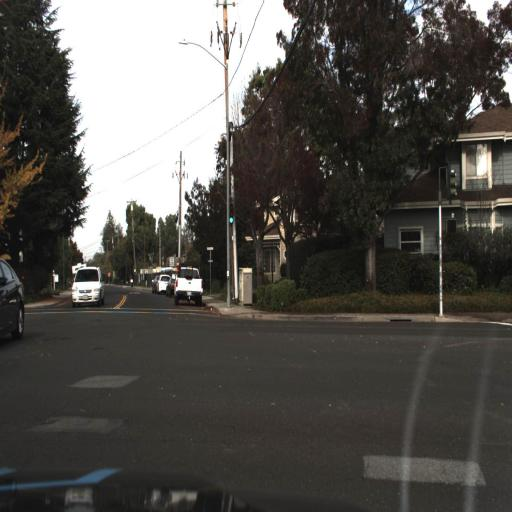car: (0, 248, 24, 346), (69, 264, 102, 310), (174, 265, 204, 303)
trafficLight-Green: (226, 201, 239, 238), (225, 199, 235, 234)
truck: (75, 262, 93, 301)
